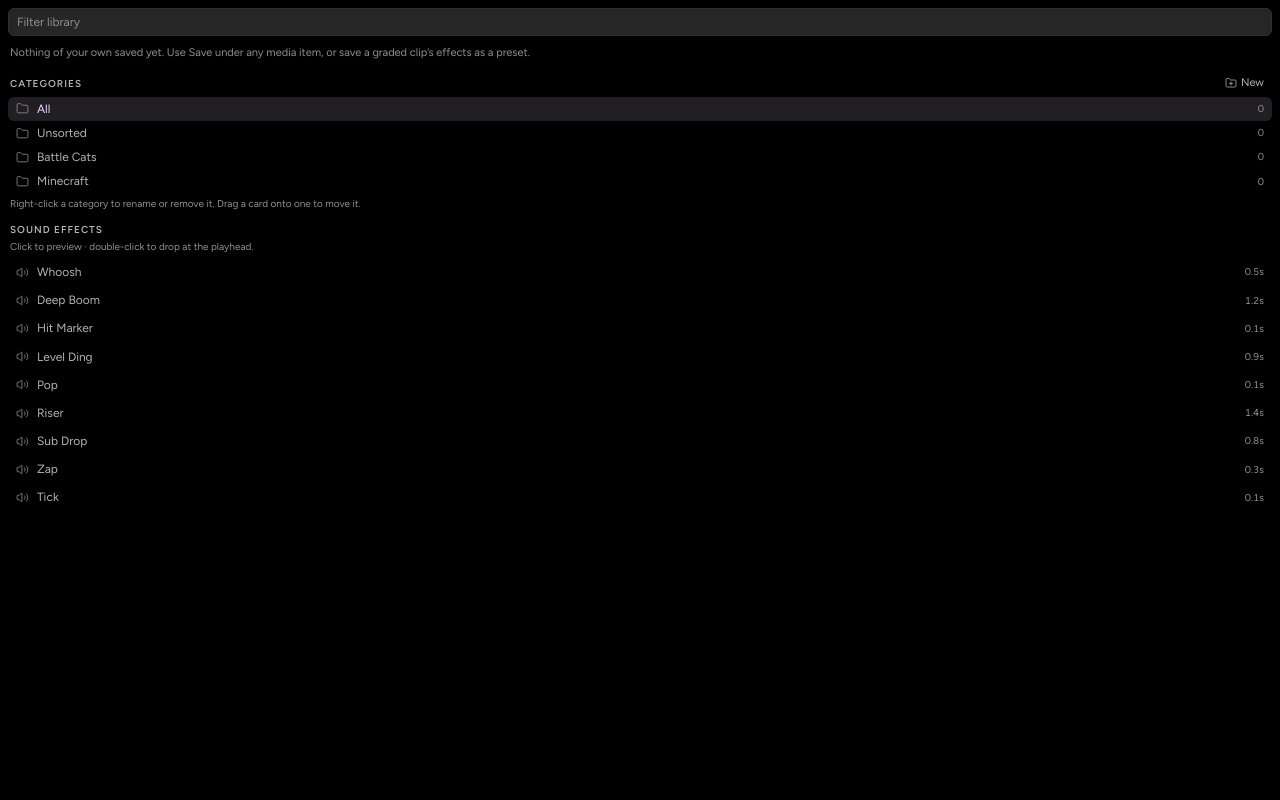
Test: the Library tab with categories › keeps the dialog open and says why when the name is taken
The image size is (1280, 800).
Click the button with test id "library-new-category" at coordinates (1244, 83), box [1219,74,1270,93]
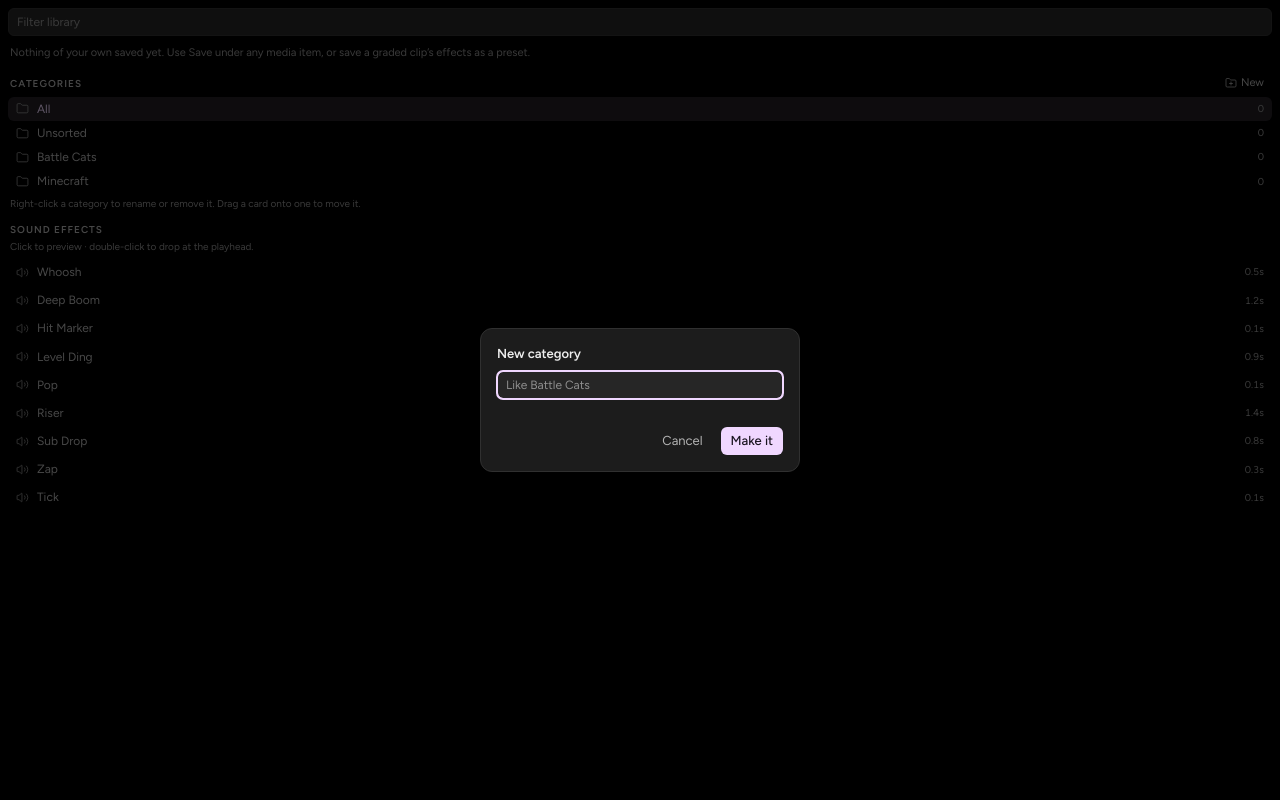
Type "battle cats" into the field with test id "name-prompt-input" at coordinates (640, 385), box [497,371,783,399]
Then press Enter
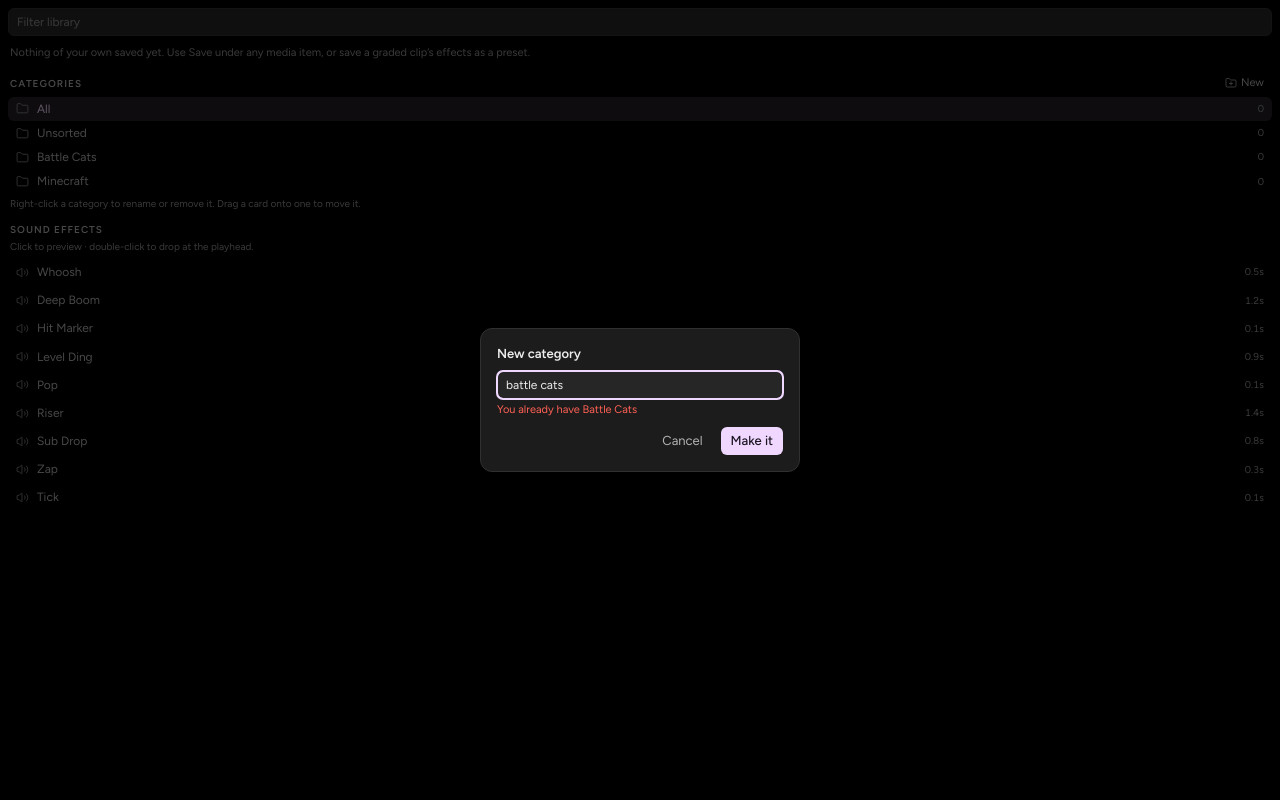
Result: the dialog with test id "name-prompt" is shown at [480,328,800,472]
Result: the text with test id "name-prompt-problem" reads "You already have Battle Cats" at [497,403,637,416]
Press Escape
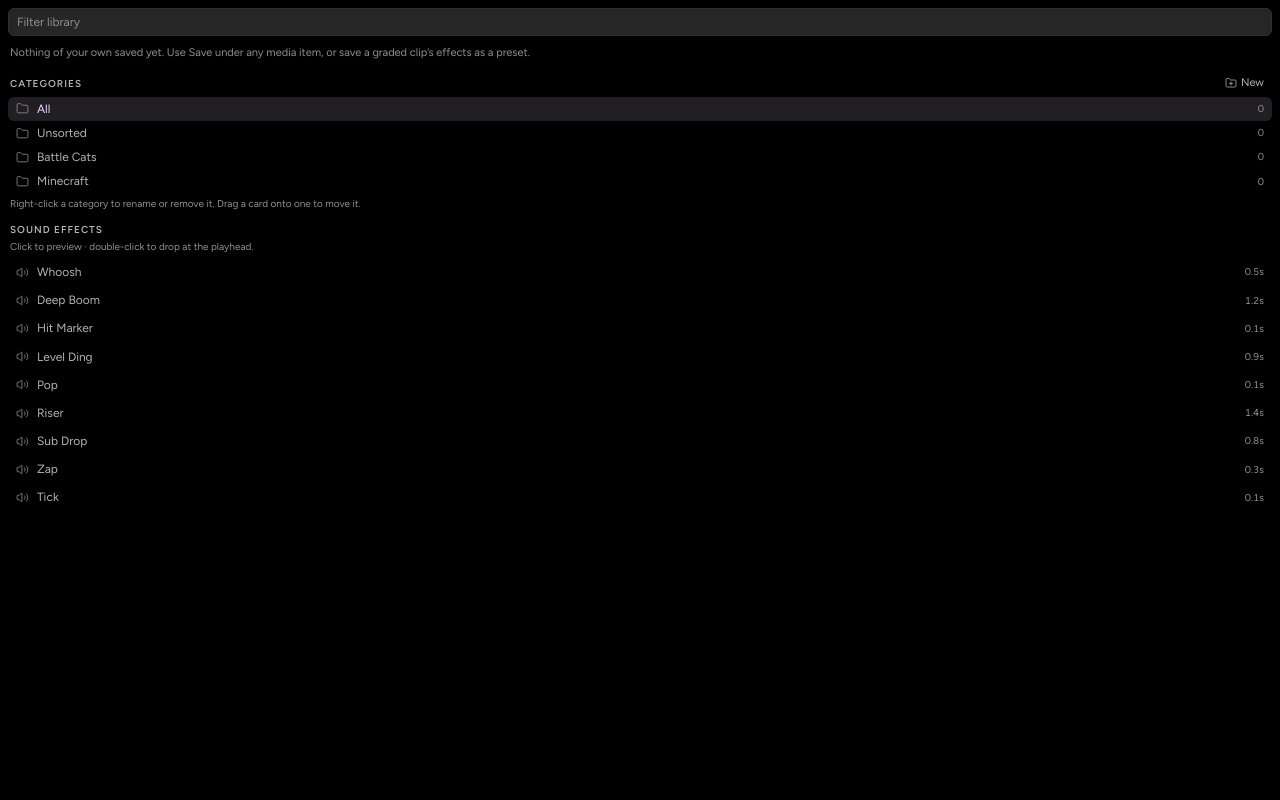
Result: the dialog with test id "name-prompt" is gone
